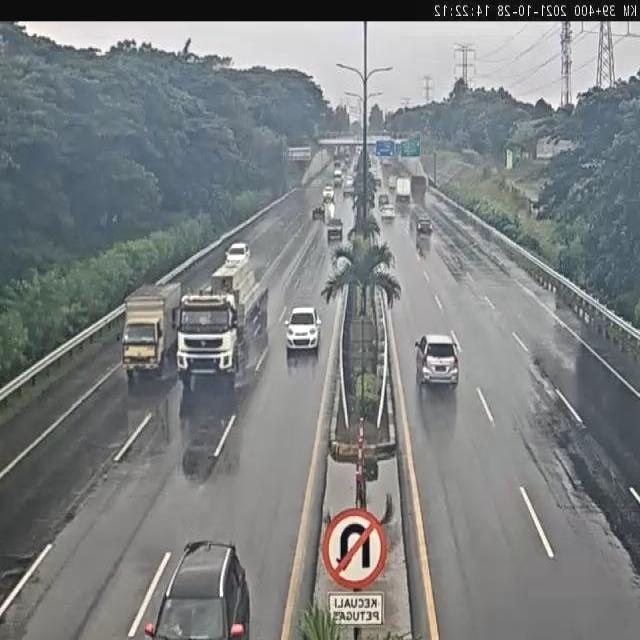Car: (141, 534, 252, 640), (414, 331, 461, 388), (284, 305, 322, 351), (225, 241, 250, 266), (326, 215, 343, 241), (379, 204, 396, 221), (417, 216, 432, 234), (311, 201, 326, 218), (323, 184, 334, 202), (378, 193, 389, 208), (342, 185, 354, 198), (372, 176, 382, 190), (345, 175, 355, 185)
Truck: (171, 261, 270, 384), (120, 280, 183, 378), (411, 174, 426, 203), (396, 178, 411, 202), (388, 174, 397, 190)
